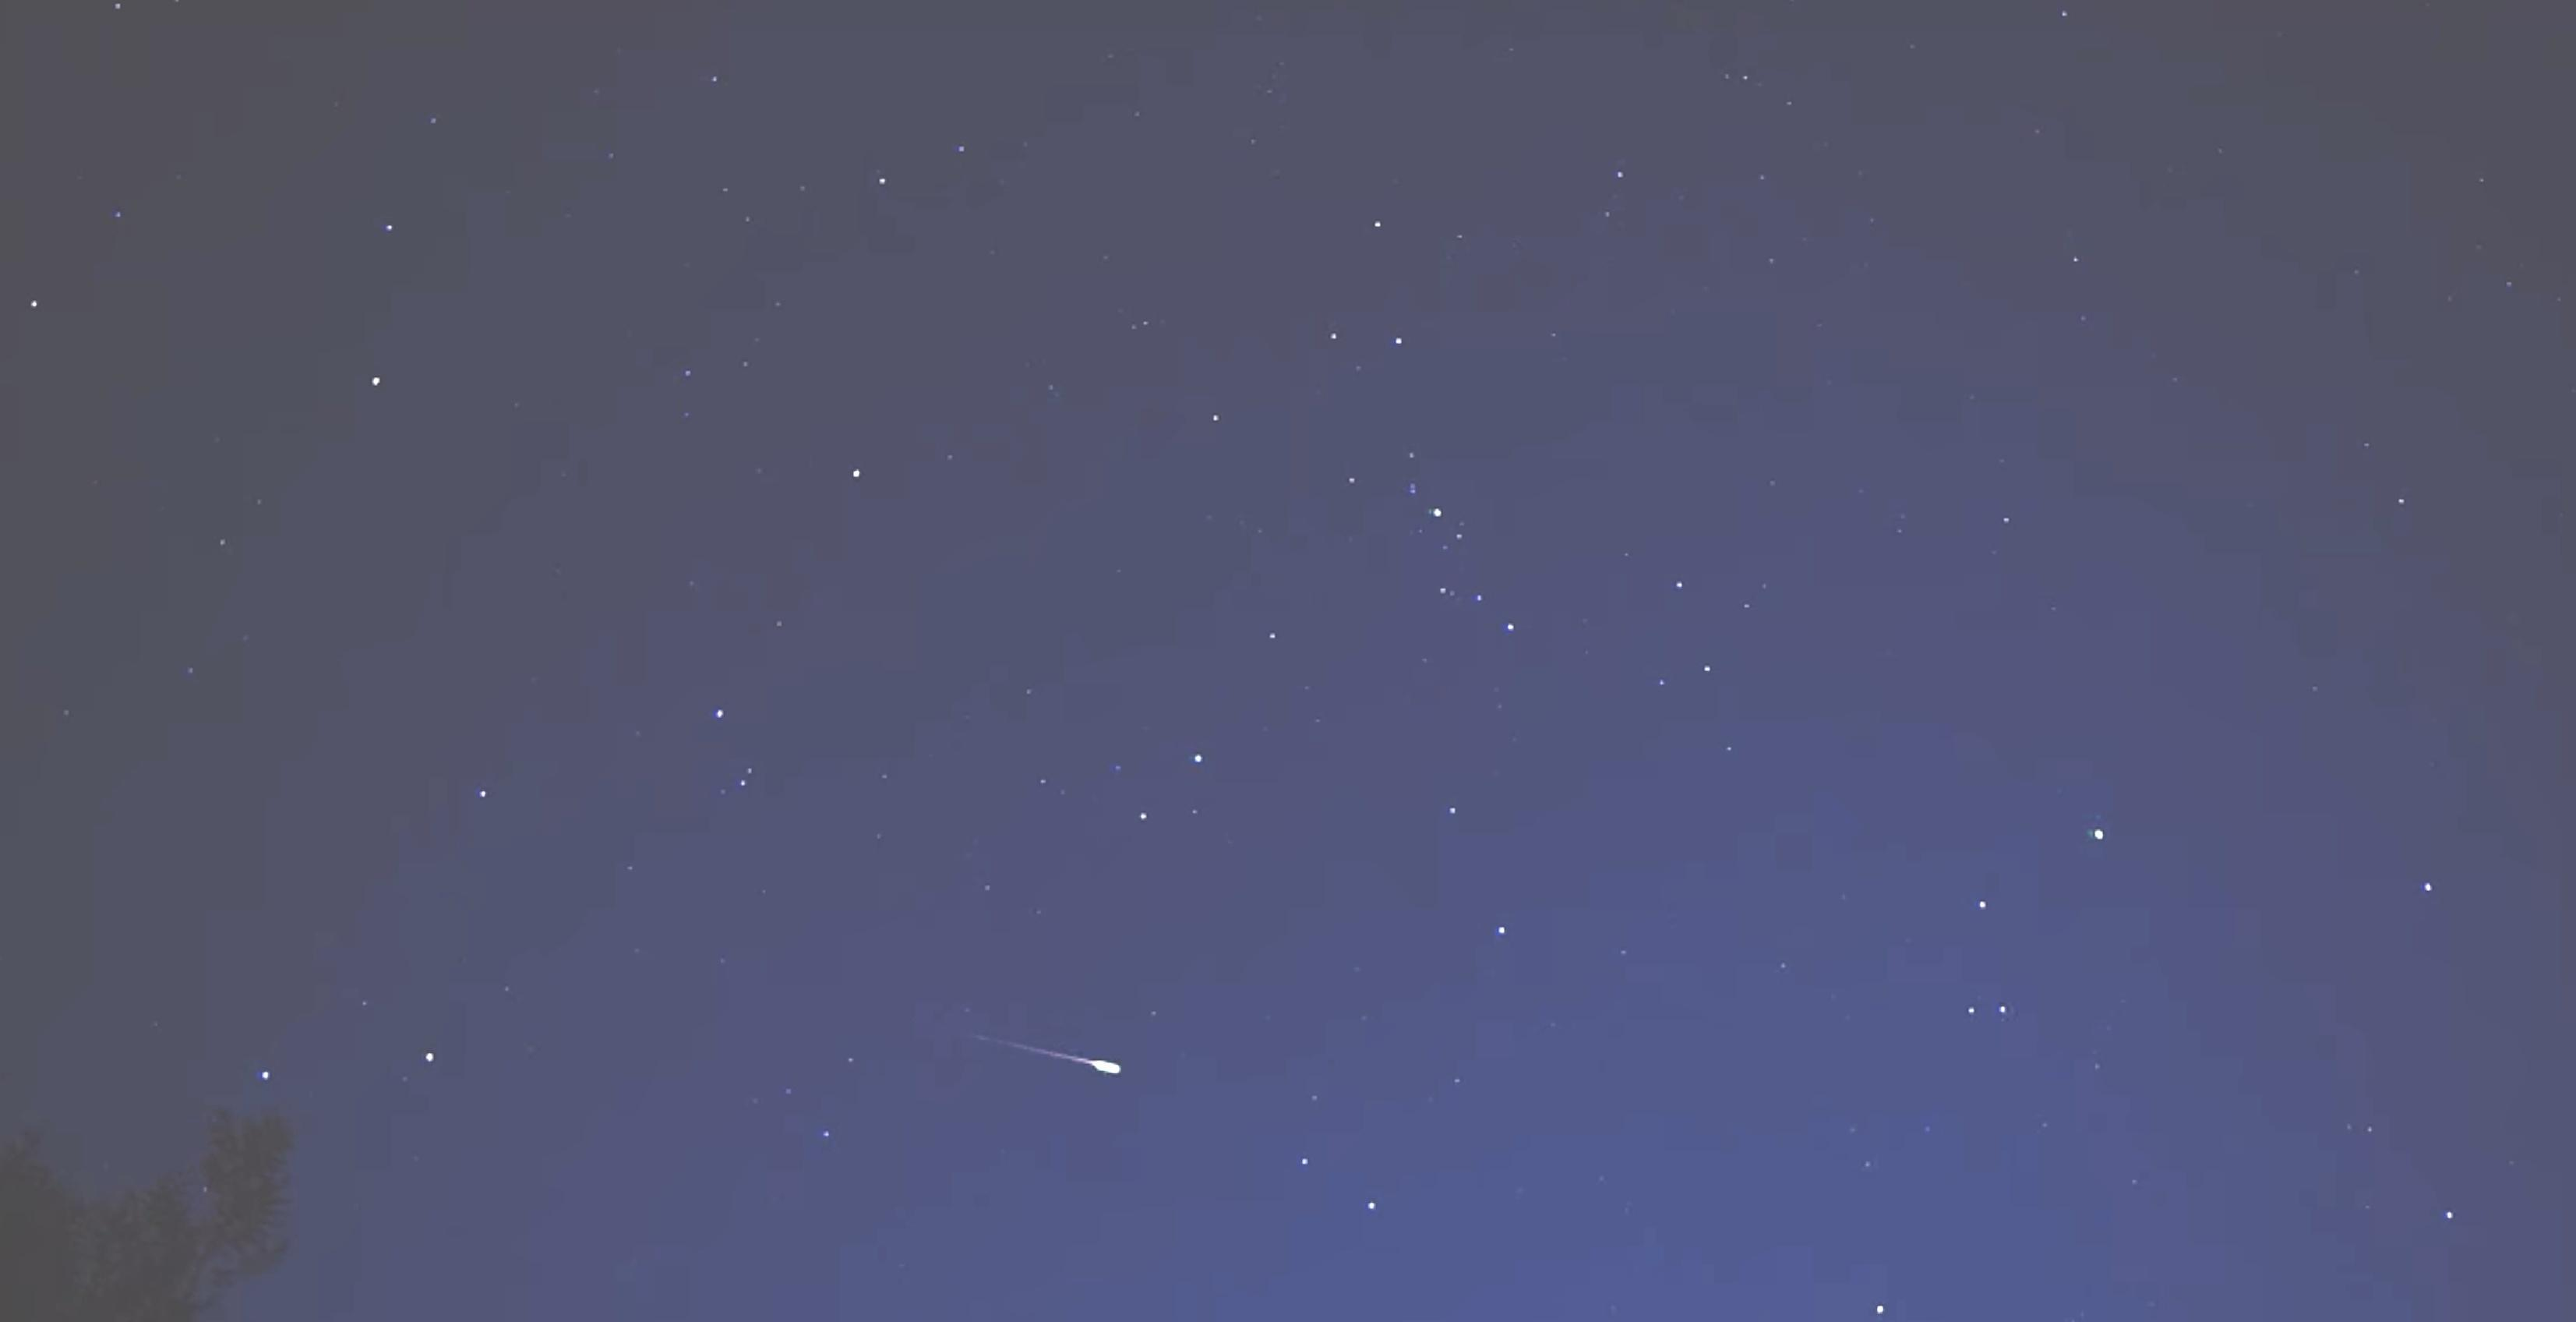meteorite: (900, 1008, 1184, 1093)
